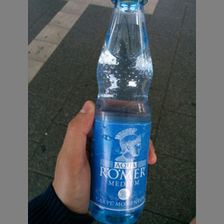water: (92, 1, 154, 224)
